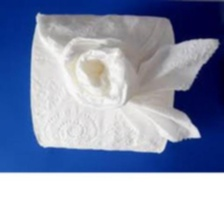tissue: (22, 6, 223, 157)
